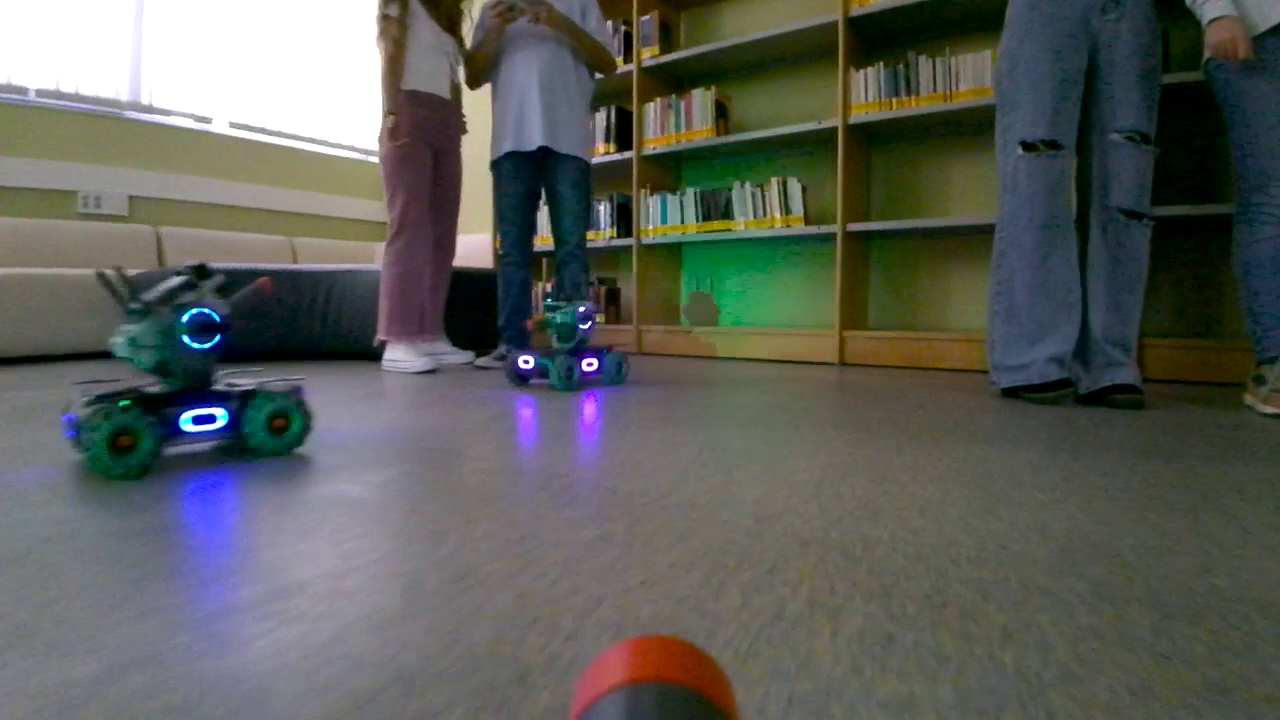robot: (65, 265, 315, 485), (500, 292, 632, 395)
